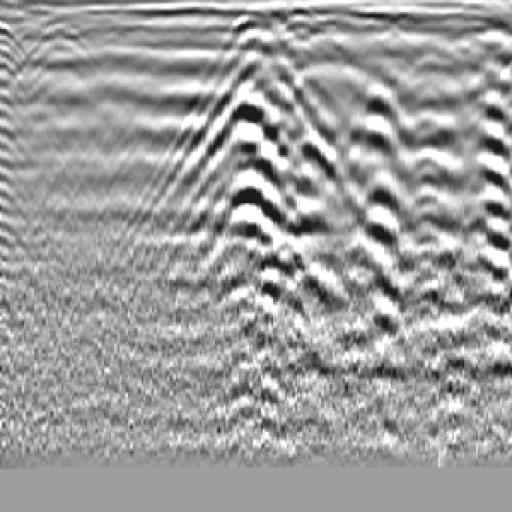metalic: (331, 67, 422, 346)
